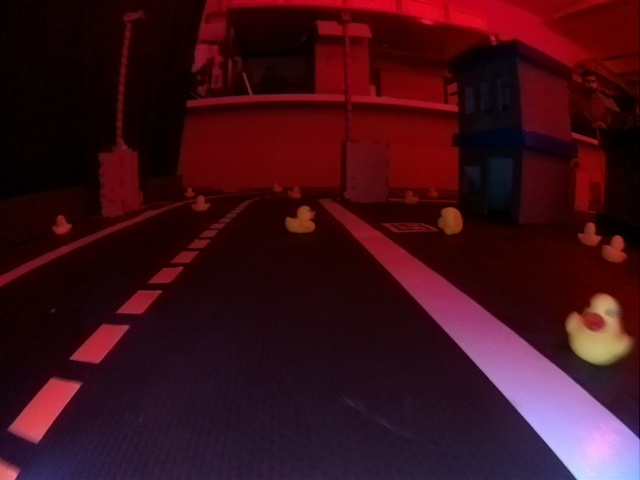Duckie: (566, 295, 631, 364), (285, 207, 314, 232), (439, 208, 463, 234), (603, 236, 626, 263), (579, 223, 598, 246), (54, 214, 72, 234), (193, 196, 210, 210), (406, 191, 416, 201), (431, 188, 439, 197), (275, 183, 283, 190)
QR code: (385, 222, 433, 232)
